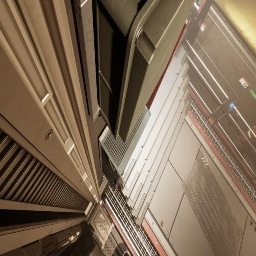NitrogenTank ,: (232, 126, 256, 150)
